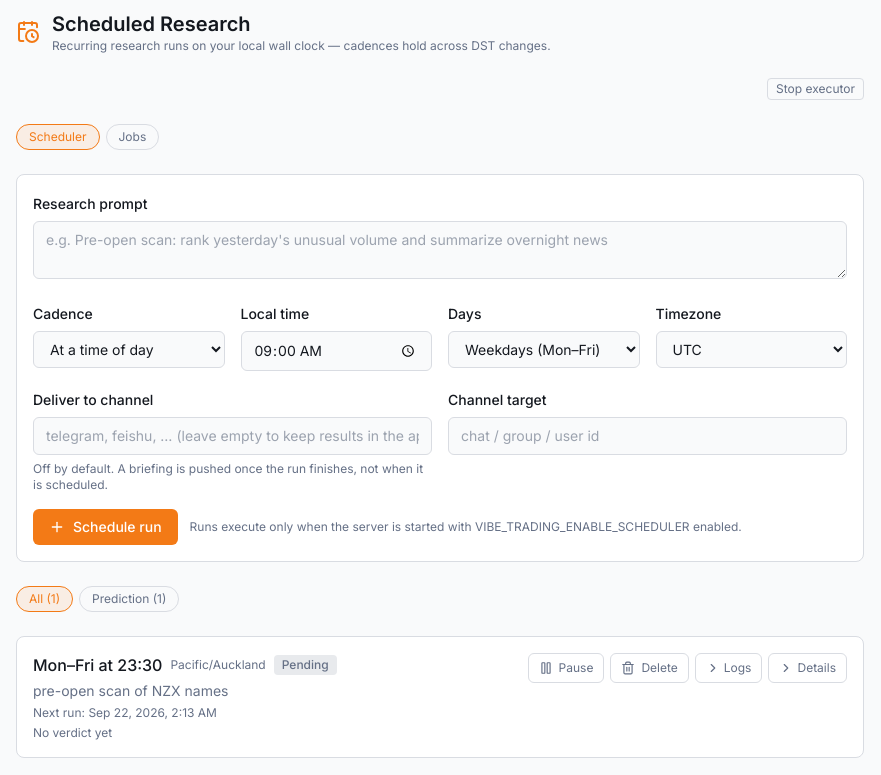
Test: viewMode toggle › switching to Jobs hides the section tab strip and shows the Jobs list
The width and height of the screenshot is (881, 775).
Expected: the text "pre-open scan of NZX names" is shown, x1=33 y1=682 x2=228 y2=699
Click the tab "Jobs".
click(132, 137)  # box x1=106 y1=124 x2=159 y2=150
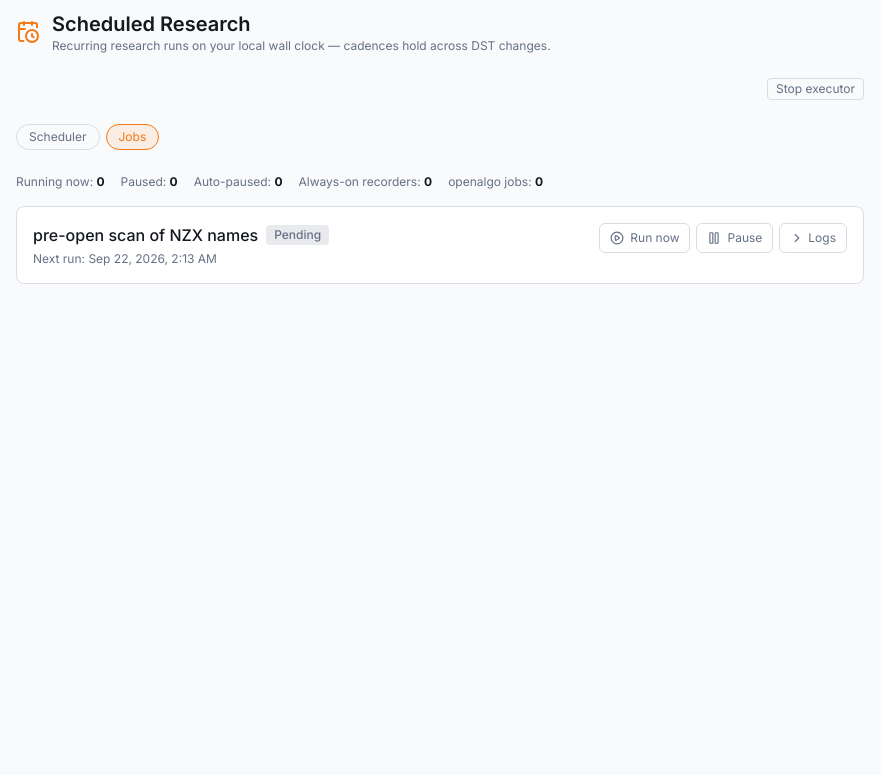
Expected: the tab "All (1)" is gone
Expected: the text "Running now: 0" is shown, x1=16 y1=174 x2=105 y2=190
